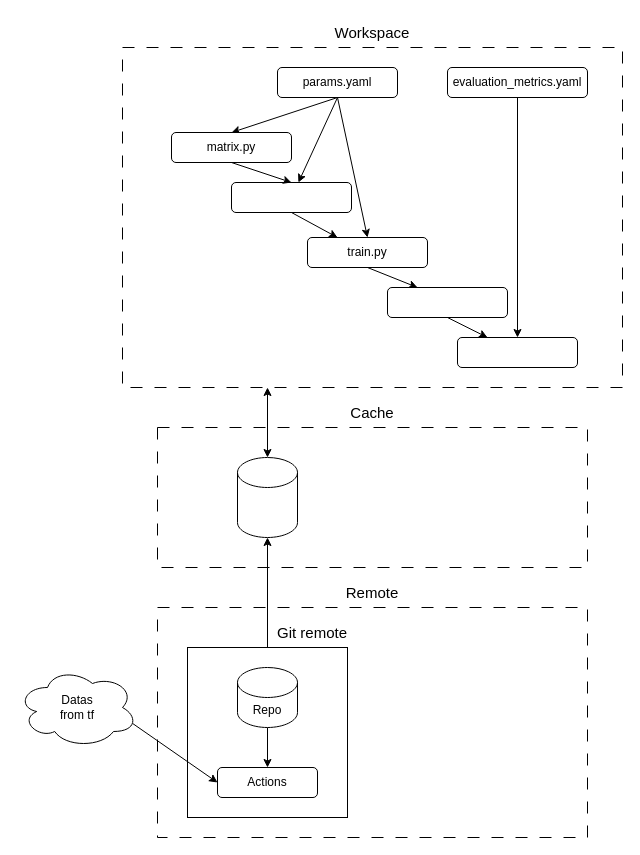
Some shapes in this 640 by 855 pixel diagram are drawn without their labels. The box of each missing label's shape, as (x1, y1, x2, y2) in pixels:
.git: (236, 456, 298, 538)
compare.py: (456, 336, 578, 368)
evaluate.py: (386, 286, 508, 318)
prepare.py: (230, 182, 352, 212)
